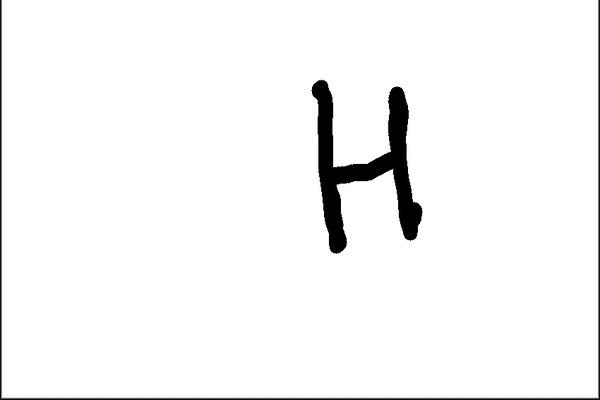H: (308, 72, 426, 258)
